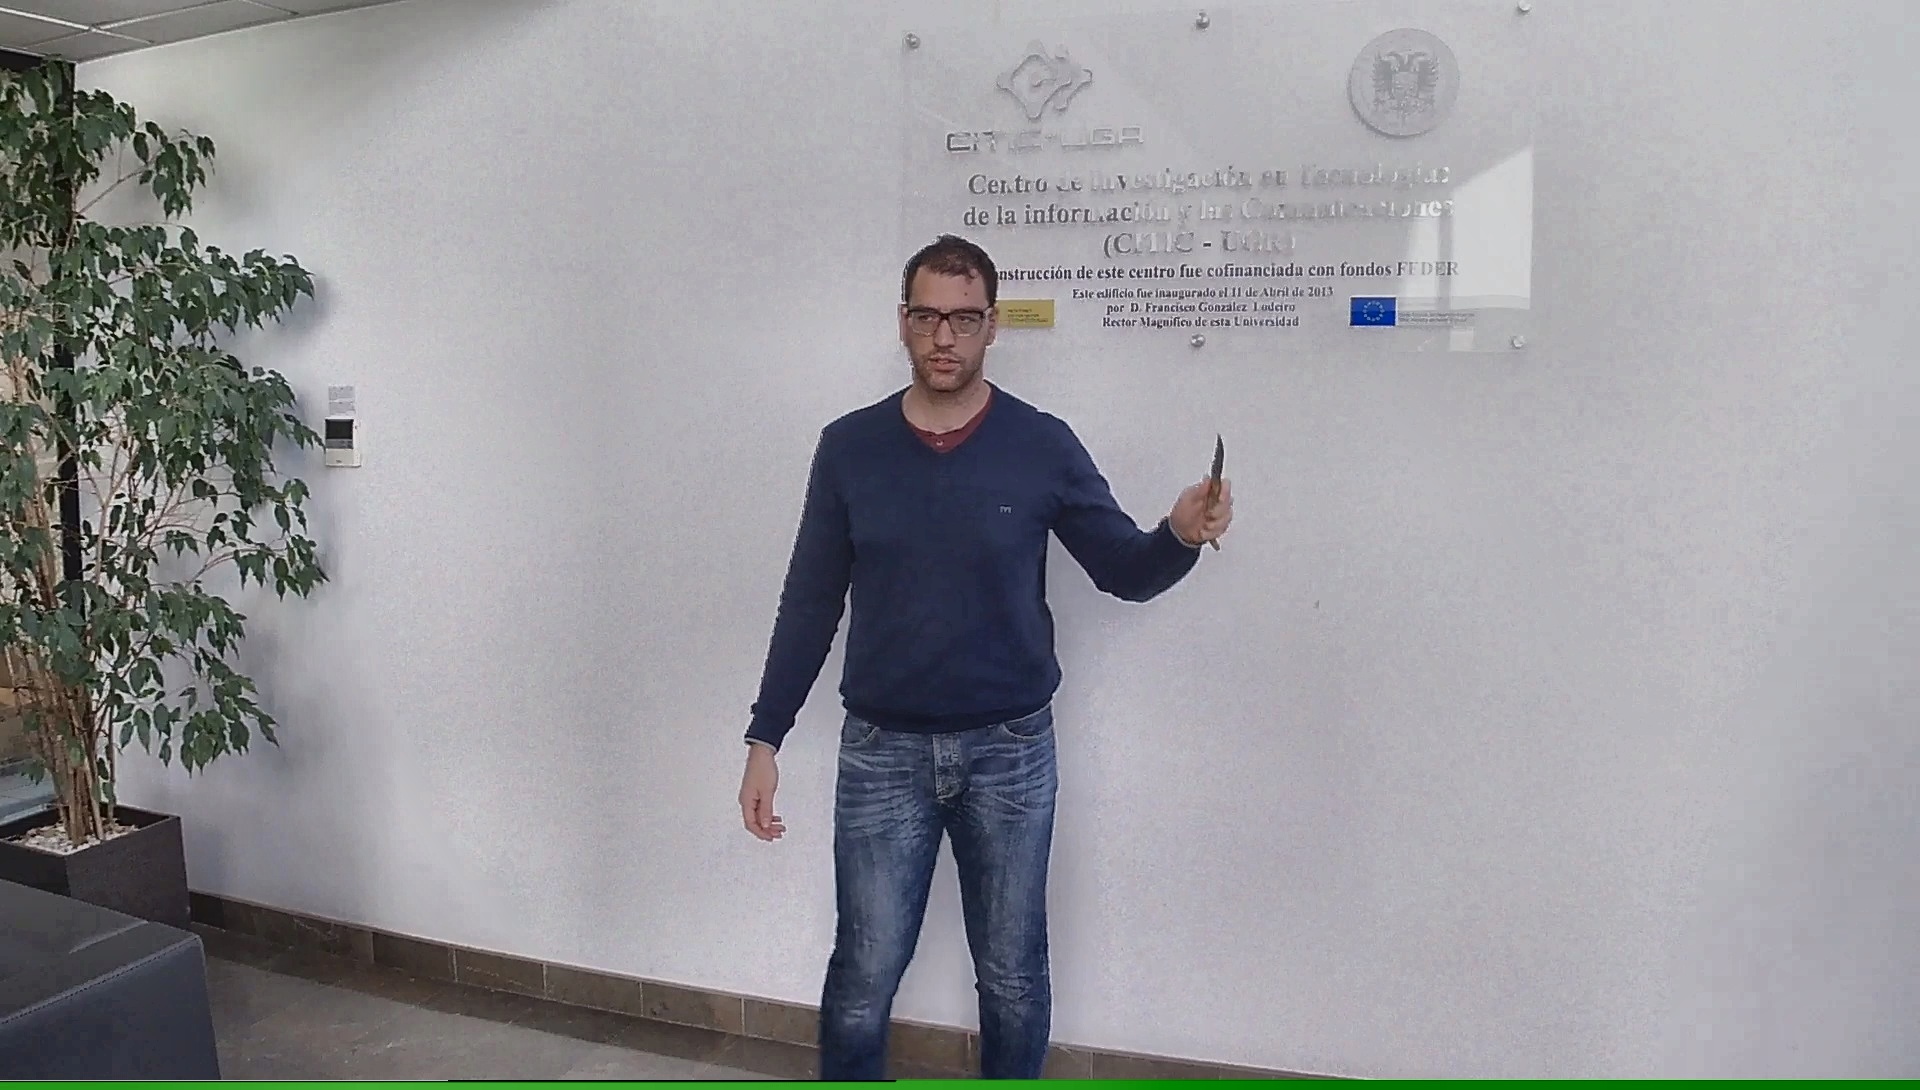knife: (1195, 422, 1241, 565)
